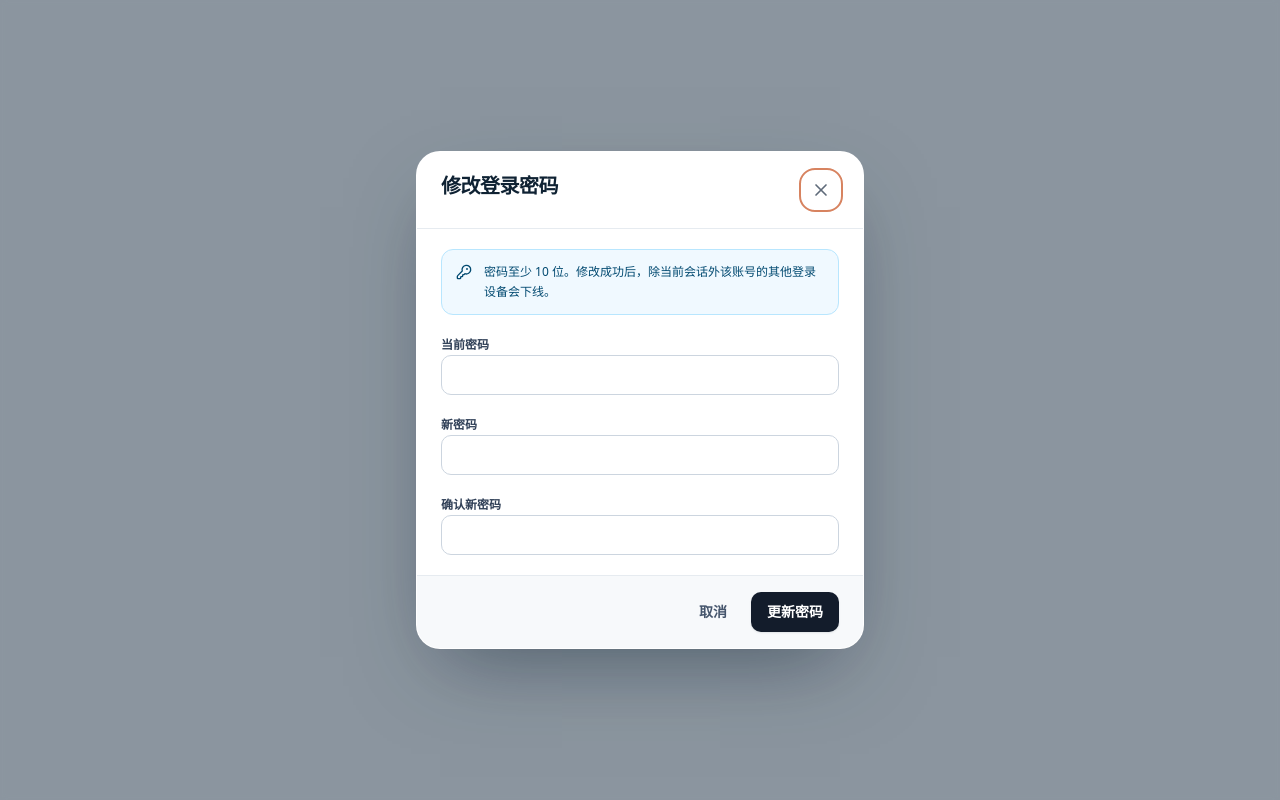
Test: ChangePasswordDialog › submits a valid password and closes after success
Step 1. Type "OldPassword1!" into the password field labelled "当前密码" → (640, 375), box [441,355,839,395]
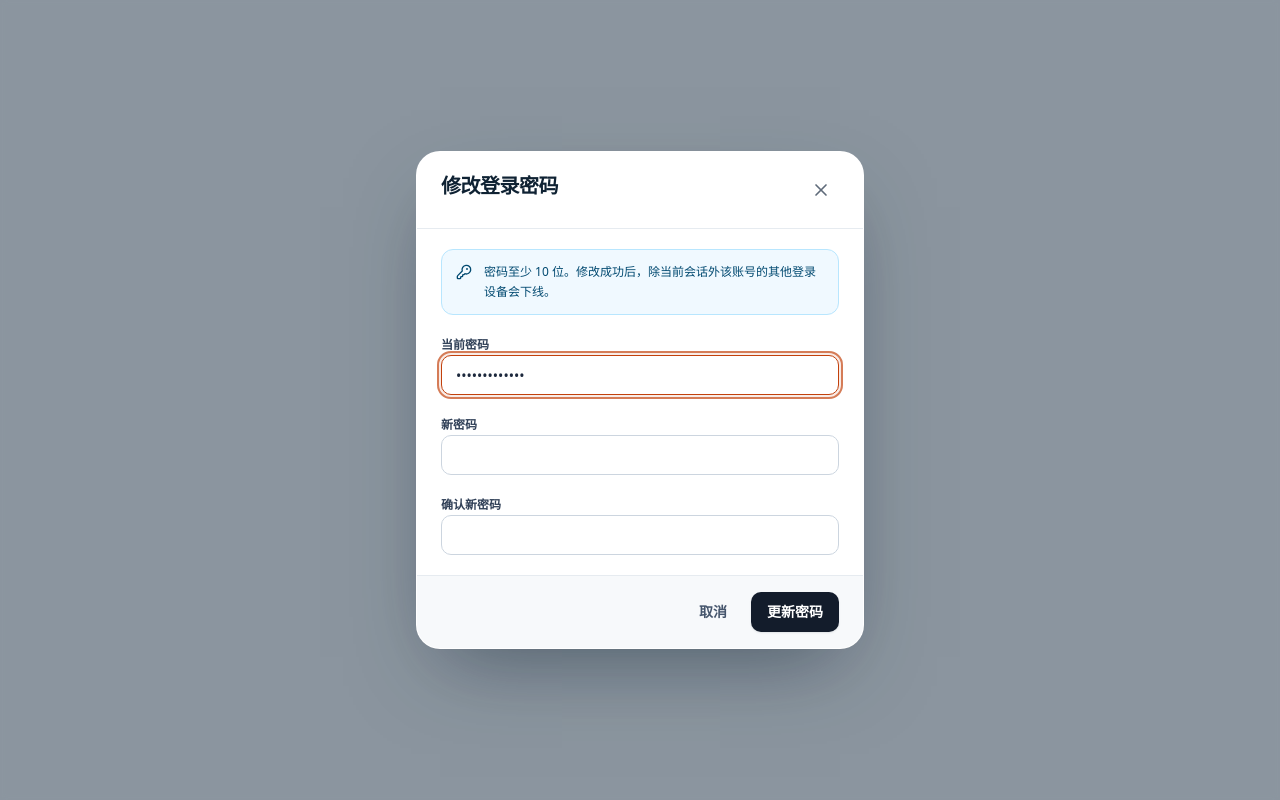
Step 2. Type "NewPassword1!" into the password field labelled "新密码" → (640, 455), box [441,435,839,475]
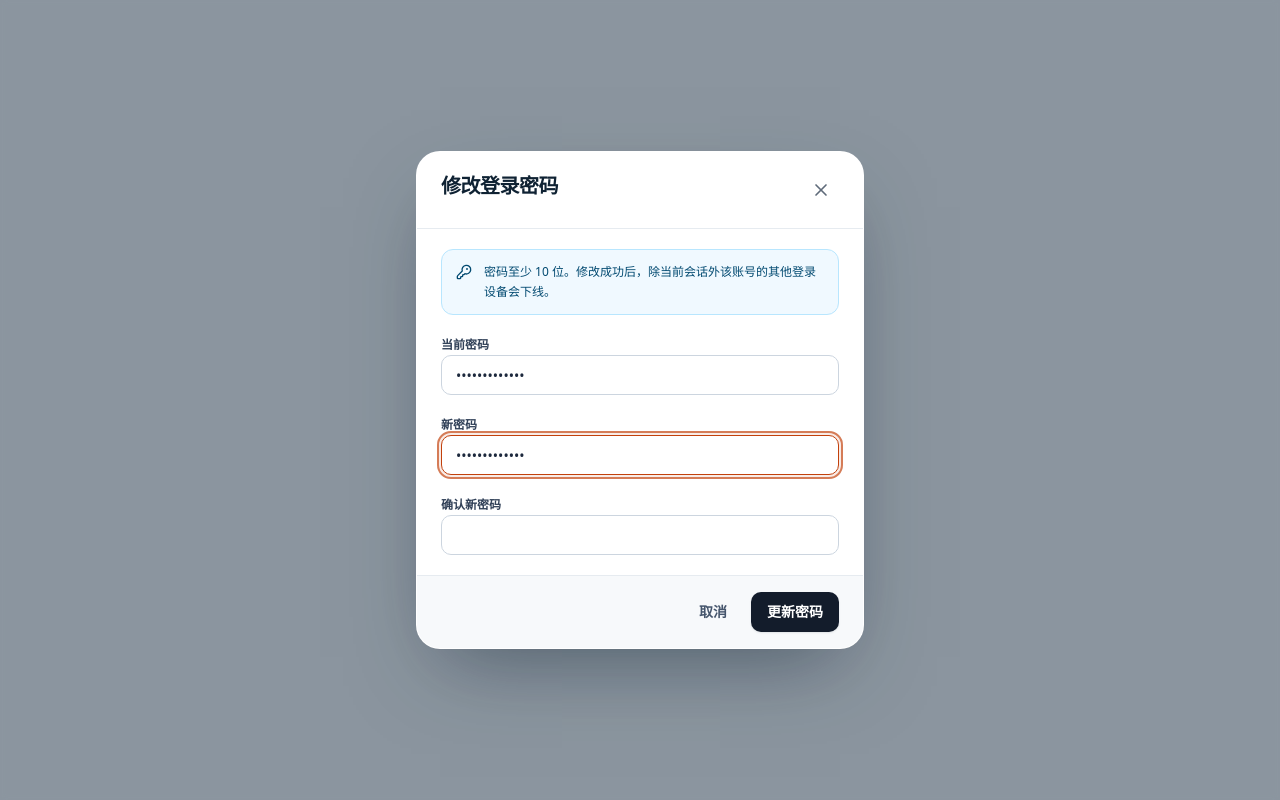
Step 3. Type "NewPassword1!" into the password field labelled "确认新密码" → (640, 535), box [441,515,839,555]
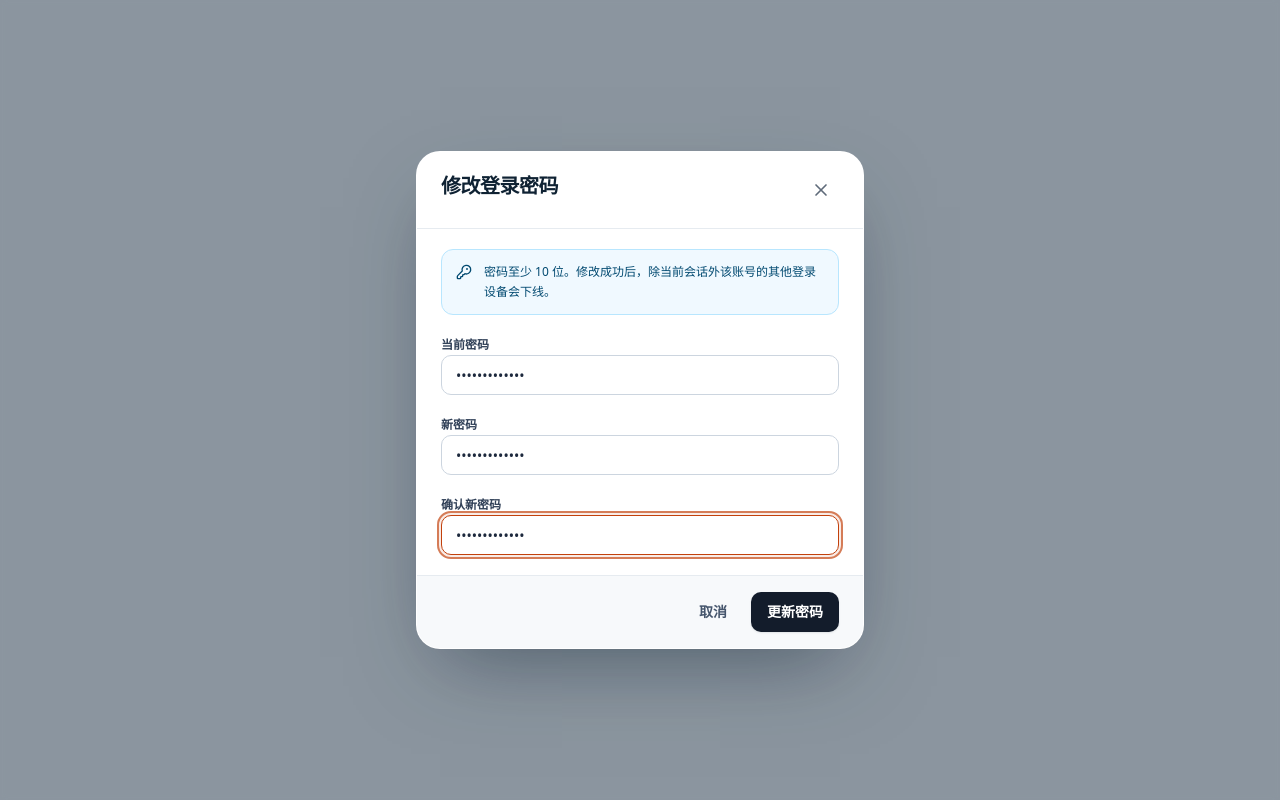
Step 4. Click the button "更新密码" → (795, 612), box [751,592,839,632]
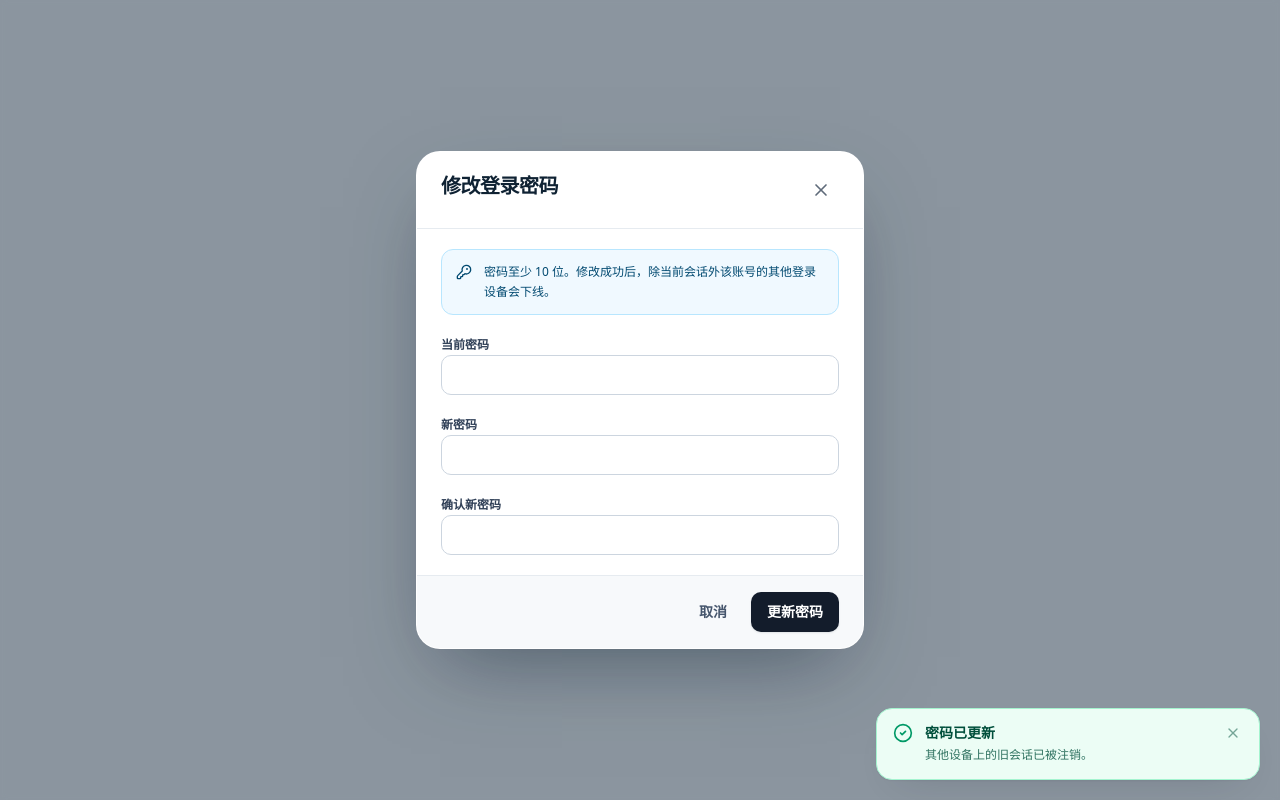
Now the text "密码已更新" is shown, box [925,723,995,742]
